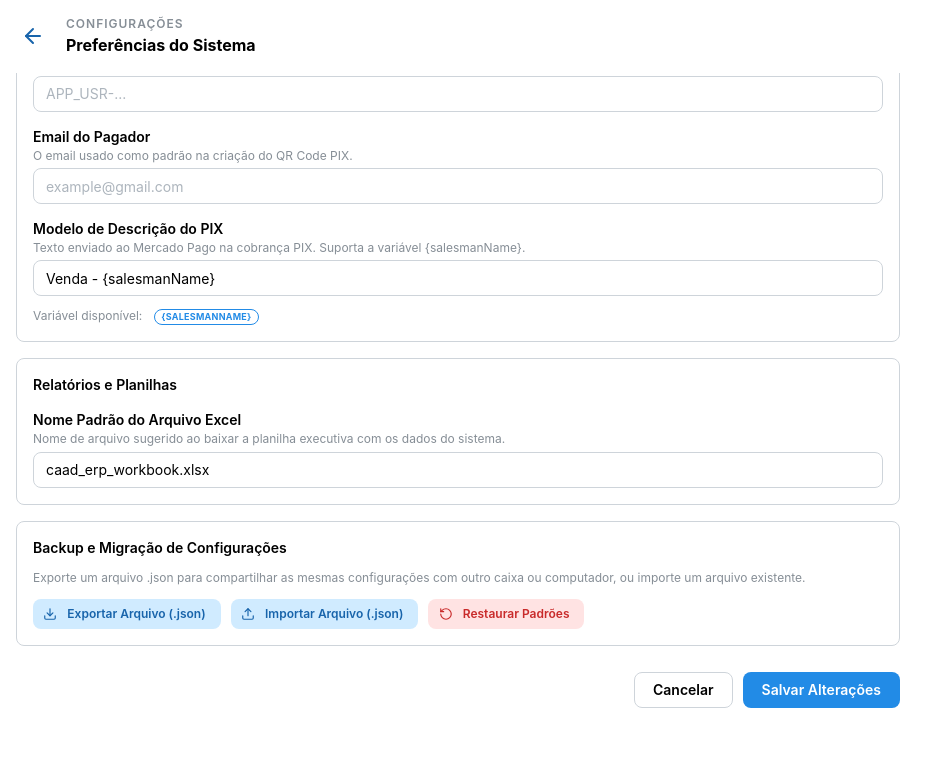
Test: SettingsPage Component › GIVEN modified form WHEN Restaurar Padrões is clicked THEN resets values and storage
The width and height of the screenshot is (927, 769).
(page scrolled)
Step 1. Click the button "Restaurar Padrões" → [506, 614], box [428,599,584,629]
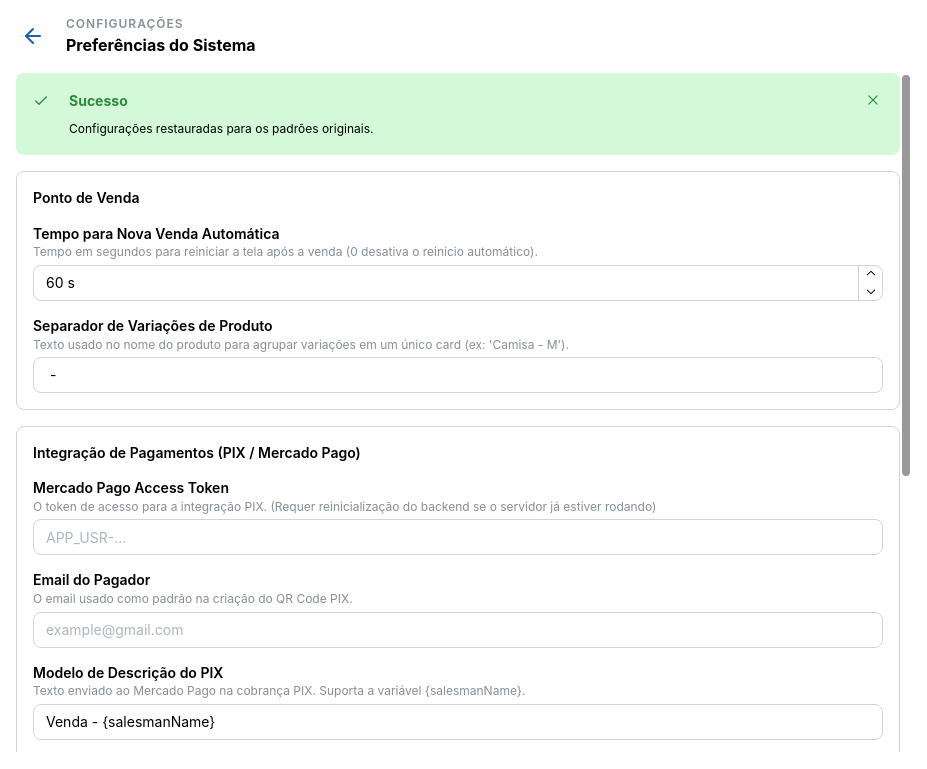
Check: the text "Configurações restauradas para os padrões originais." is shown, box [69,122,373,136]
Check: the field labelled "Separador de Variações de Produto" holds " - ", box [33,357,883,393]
